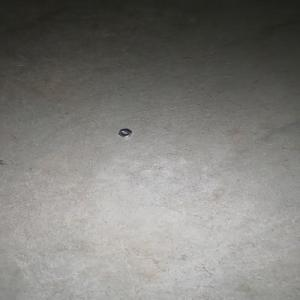Nut: (117, 129, 131, 137)
